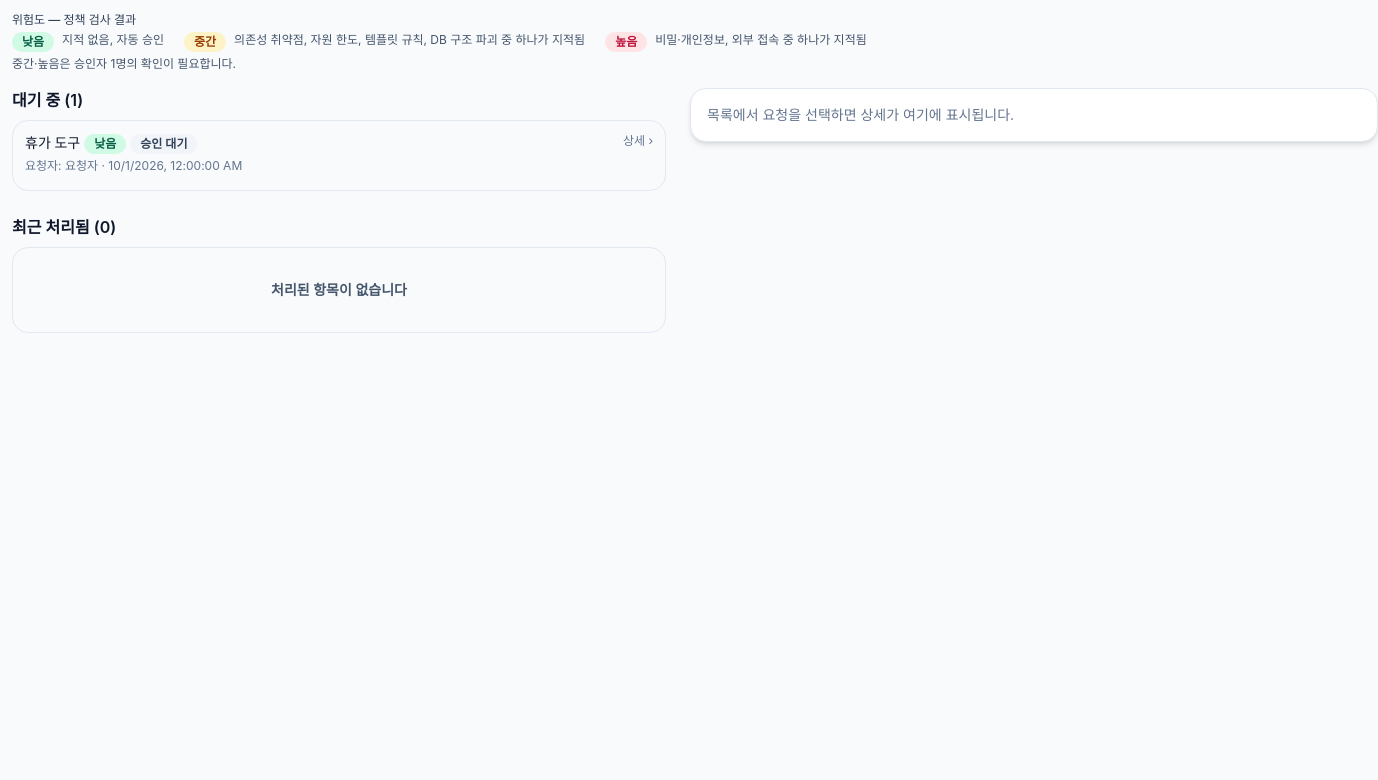
Test: the preview smoke check inside the approval console's detail › keeps the spec's whole content order across the four tabs, in the order the tabs come
The width and height of the screenshot is (1378, 780).
Click the list item with aria-label "휴가 도구 요청 상세 보기": click(339, 156) top-left (12, 120), bottom-right (666, 191)
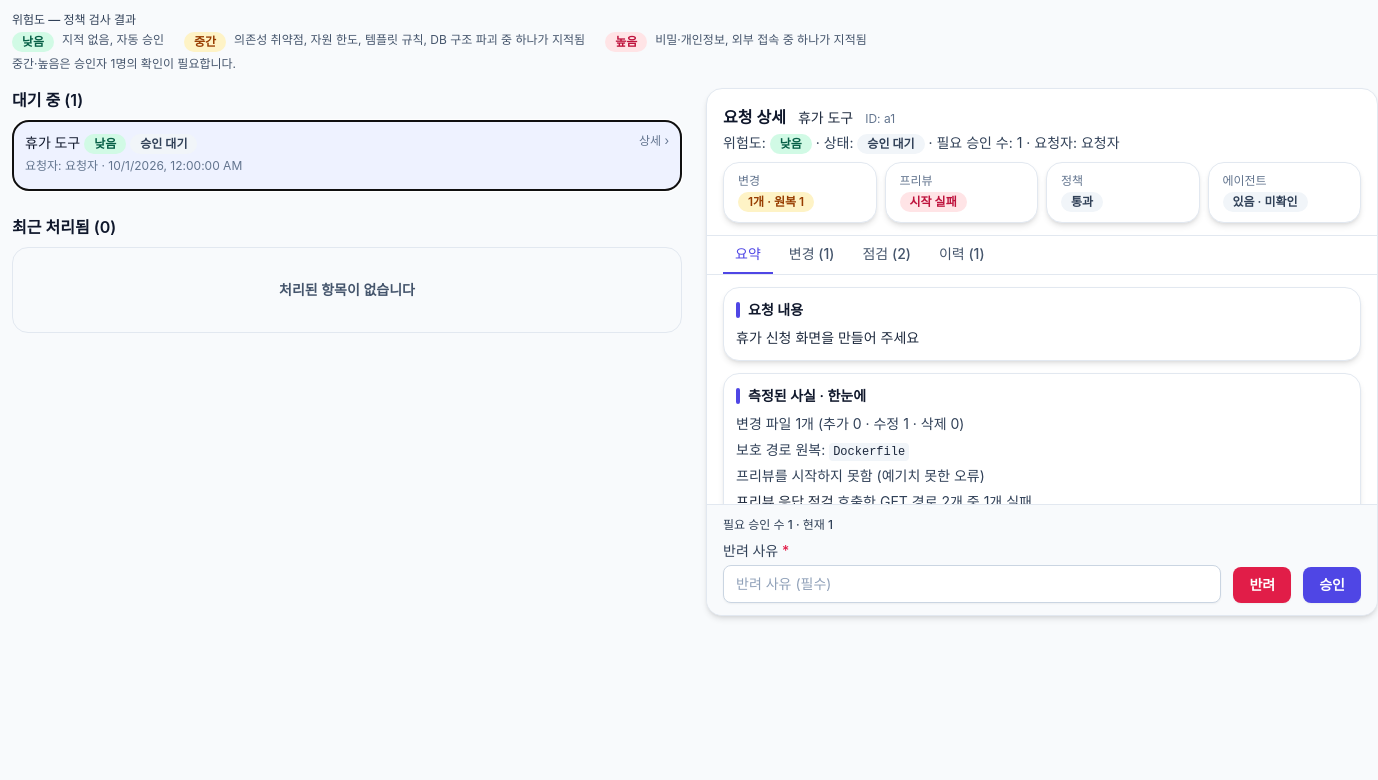
Result: the element "요청 상세" is shown at top-left (706, 88), bottom-right (1377, 616)
Click the tab "변경 (1)": click(812, 255) top-left (777, 236), bottom-right (846, 274)
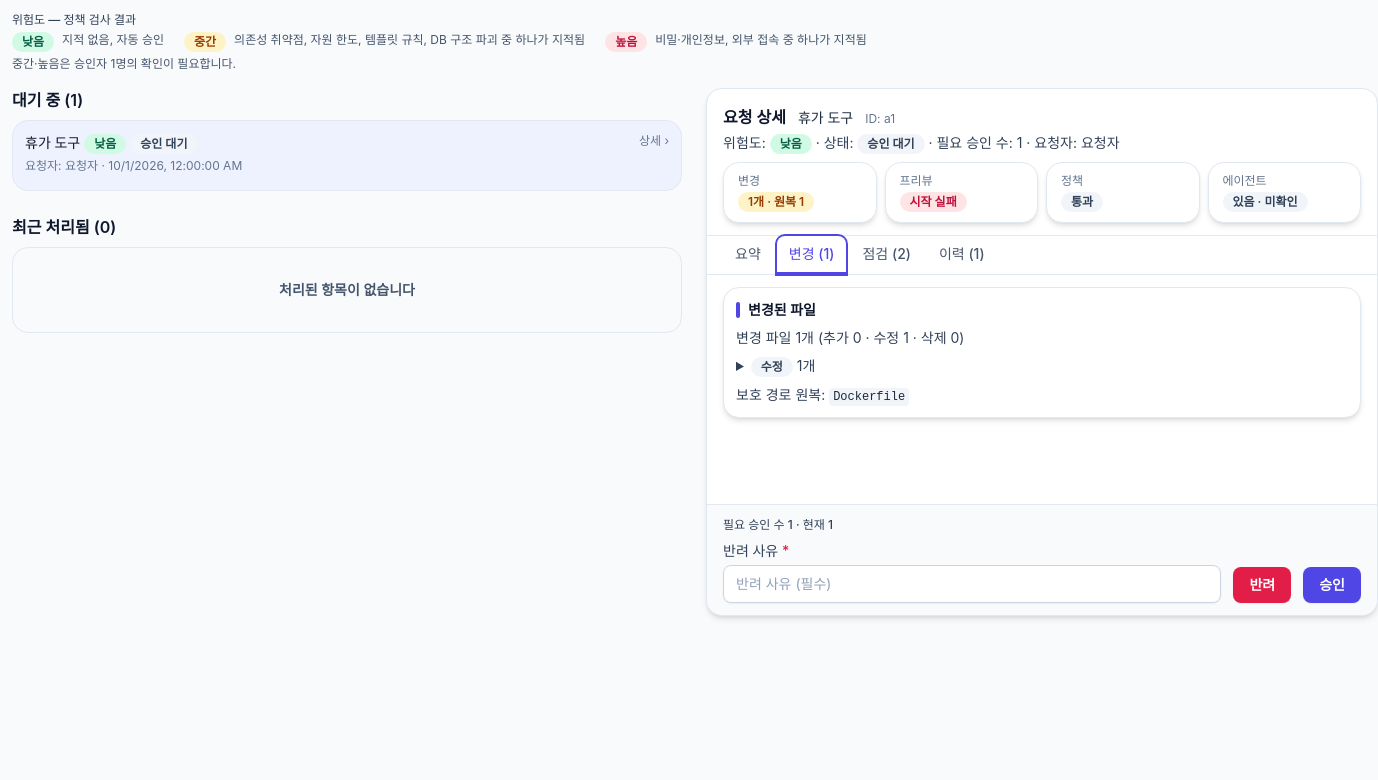
Result: the heading "수정 1개" is shown at top-left (751, 357), bottom-right (815, 377)
Click the tab "점검 (2)": click(887, 255) top-left (850, 236), bottom-right (923, 274)
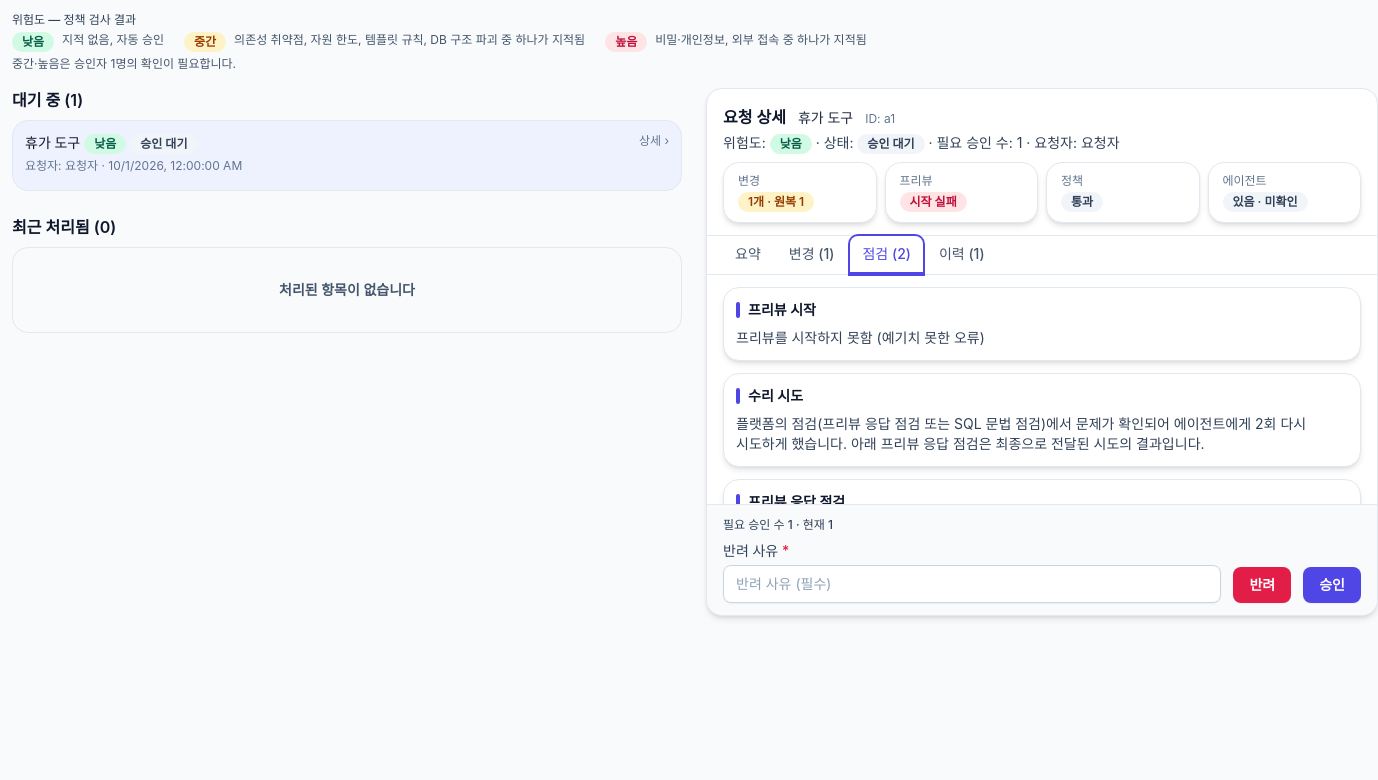
Click the tab "이력 (1)": click(962, 255) top-left (927, 236), bottom-right (997, 274)
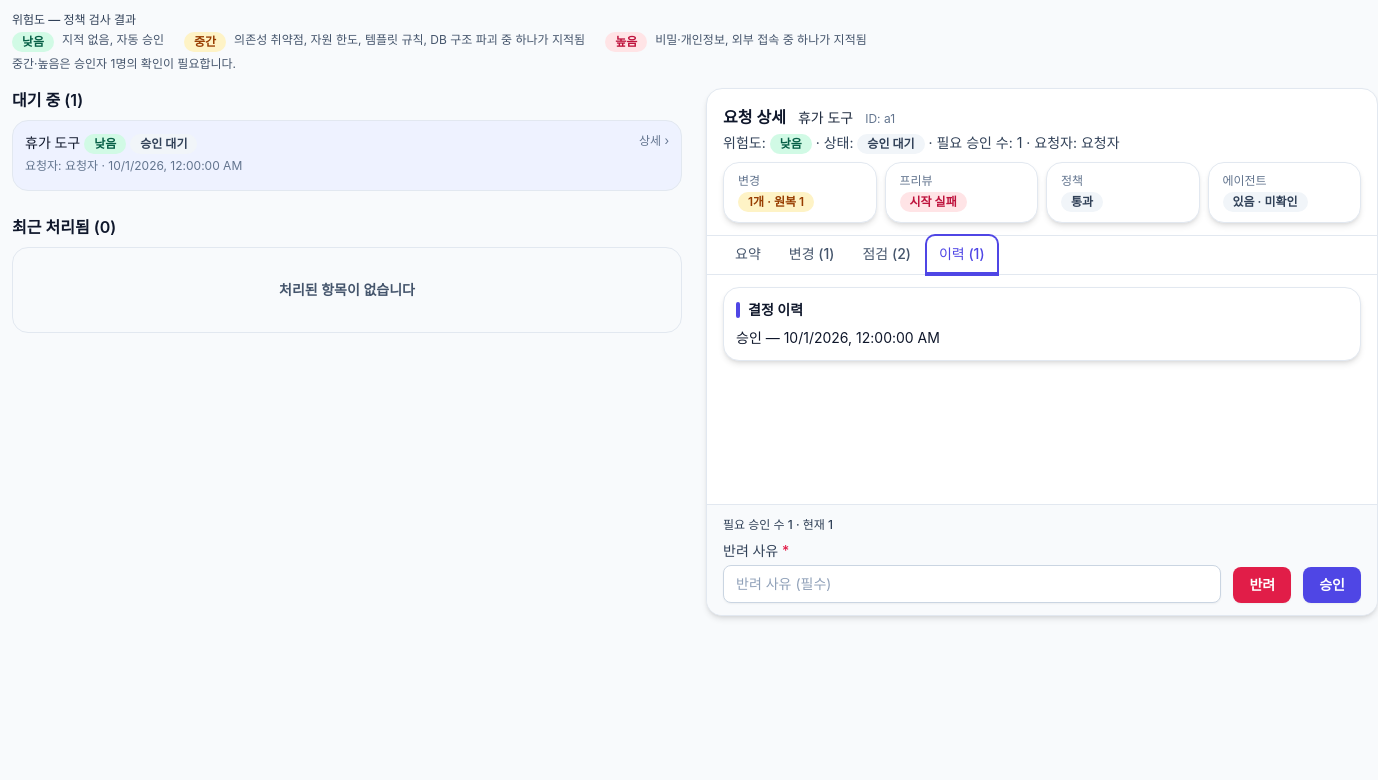
Result: the heading "결정 이력" is shown at top-left (736, 301), bottom-right (803, 318)
